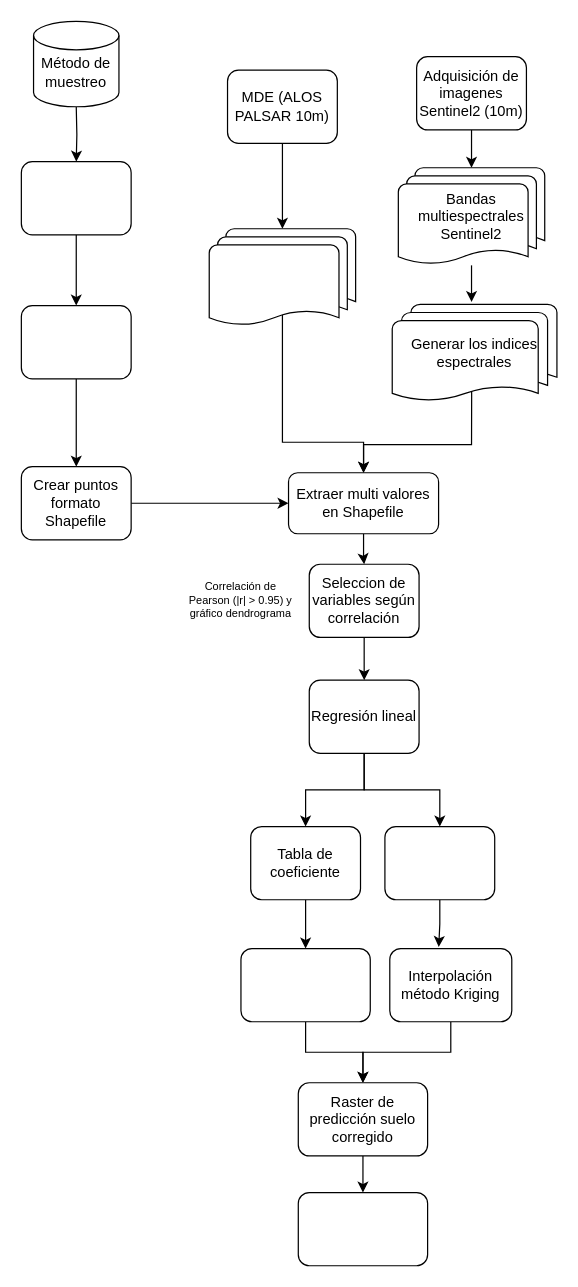
Some shapes in this 578 by 1287 pixel diagram are drawn without their labels. The shapes that lost their labels are listed below. From the top down, each one's box as (x1, y1, x2, y2) in pixels, then its label:
(20, 160, 131, 235): Recolección de muestreo de suelo
(208, 228, 356, 326): Factores topográficos
(20, 304, 131, 379): Análisis de suelos
(384, 825, 495, 900): Shapefile de residuales
(240, 947, 370, 1022): Raster de predicción suelo
(297, 1191, 428, 1266): Reclasificación de capas en función categorías
